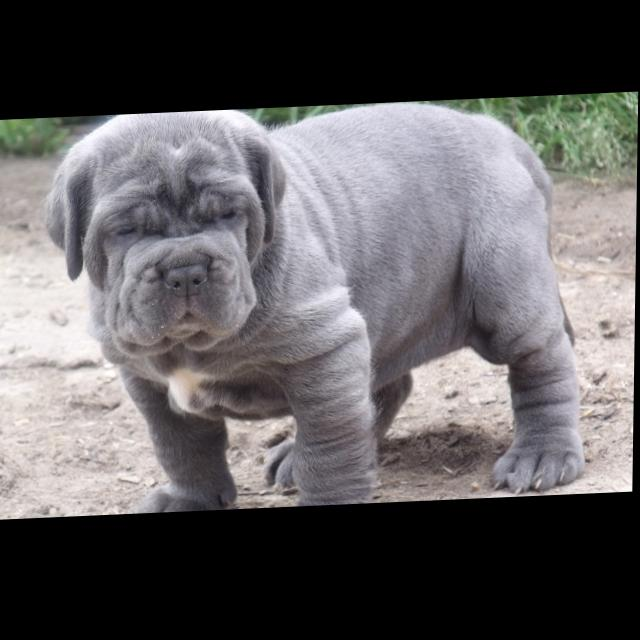mastino_napoletano: (43, 100, 593, 519)
